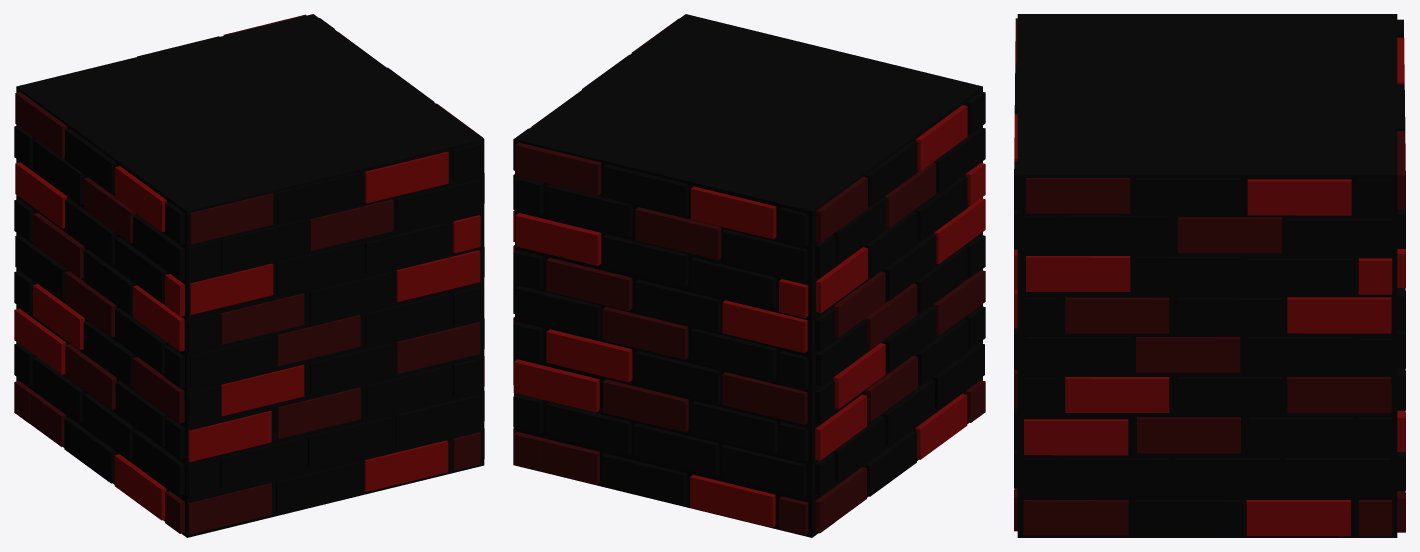
The model's file is SM_BrickWall.fbx.
3 renders of one model, left to right at view 1: azimuth 30°, elevation 25°; view 2: azimuth 150°, elevation 25°; view 3: azimuth 270°, elevation 25°, orthographic. The views are drawn at different scales.
Parts seen in each view (by area): view 1: Bricks; view 2: Bricks; view 3: Bricks.
Part boxes in pixels (x1=…): Bricks: x1=14, y1=14, x2=484, y2=537; Bricks: x1=513, y1=14, x2=985, y2=537; Bricks: x1=1014, y1=14, x2=1405, y2=537.
Bounding box in the file's own units: 39.57 × 40.3 × 39.44.
